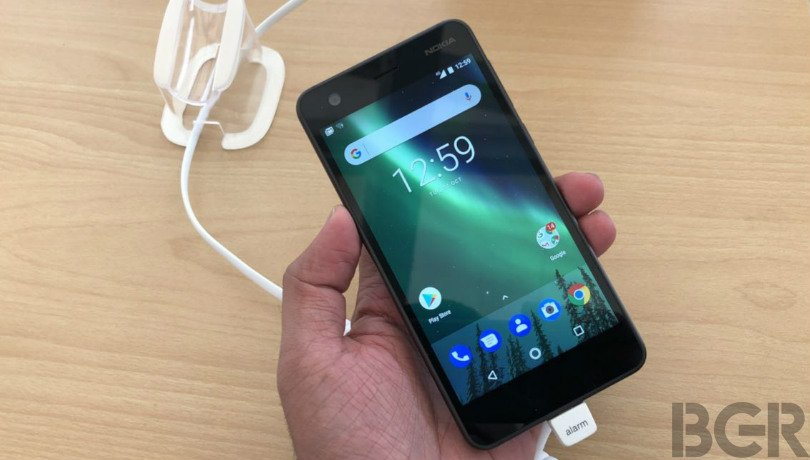mobile: (279, 9, 649, 460)
